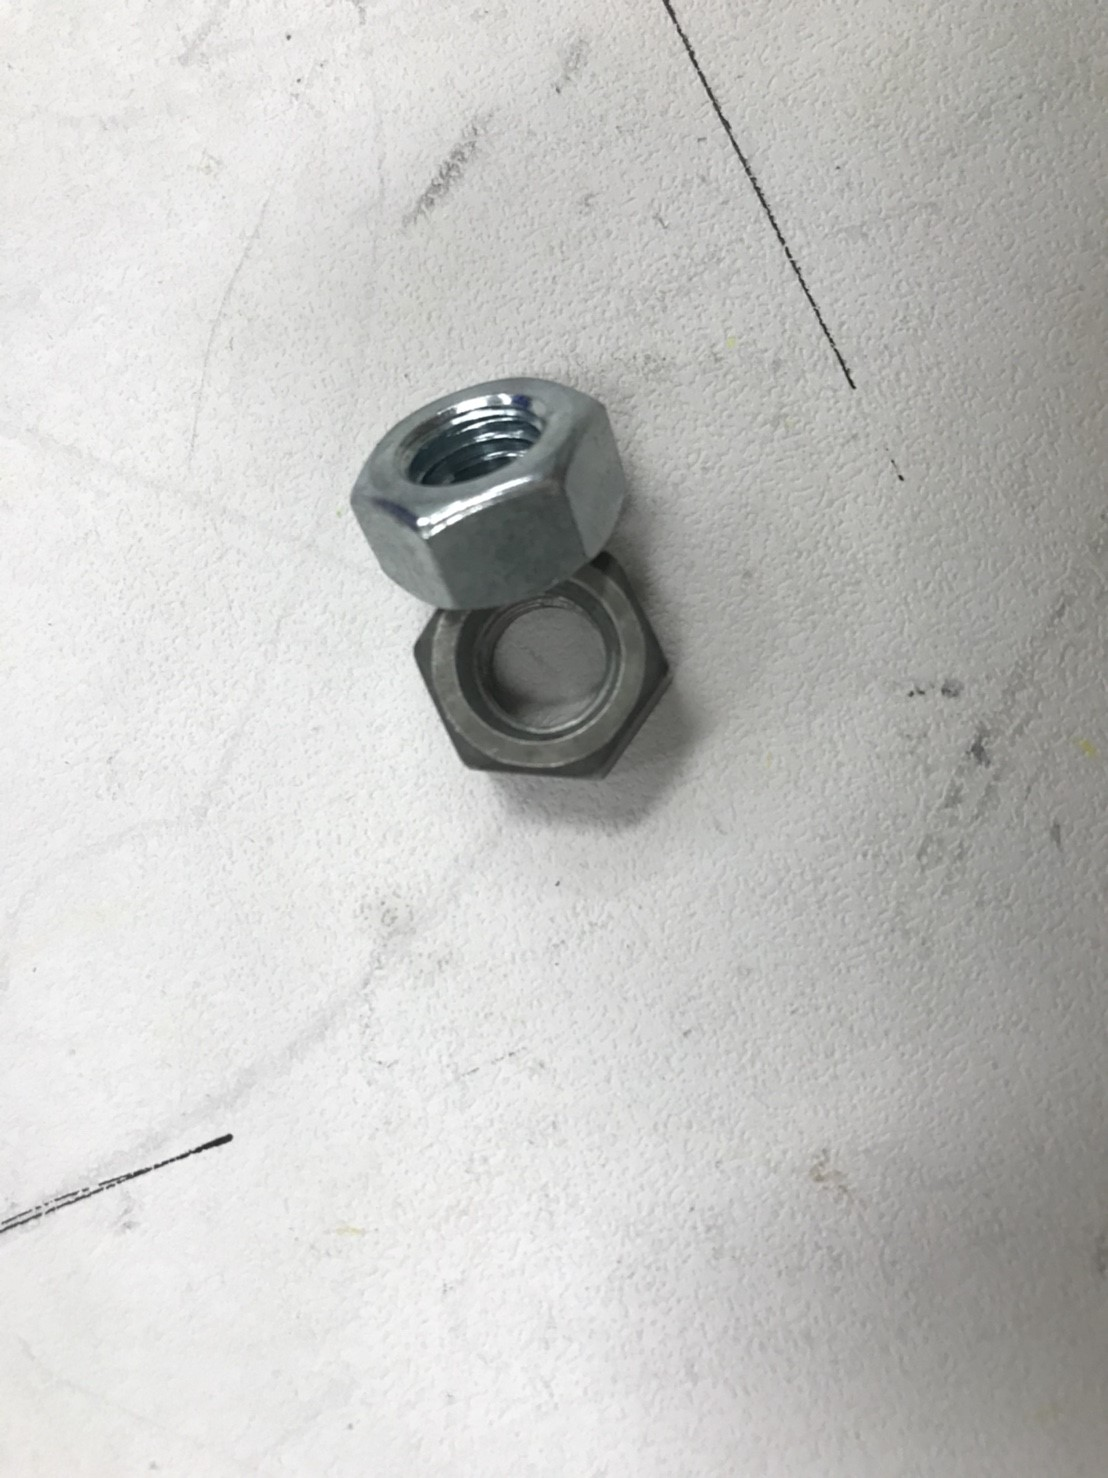nut: (353, 357, 651, 610), (409, 550, 702, 791)
